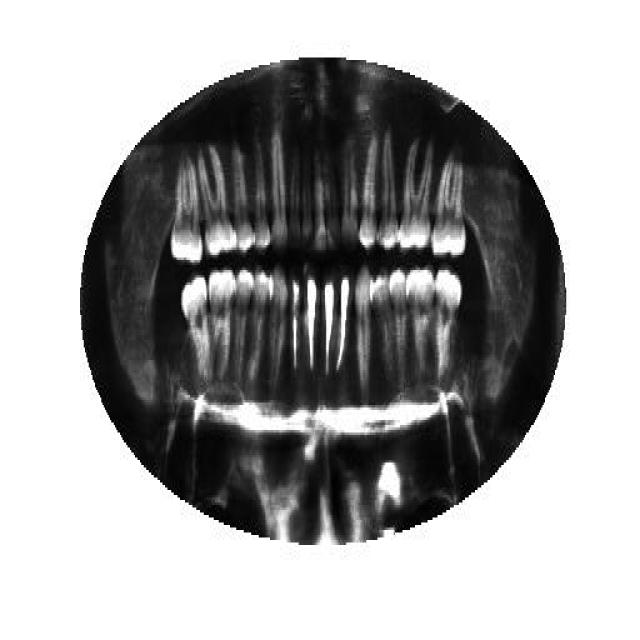Implant: (336, 265, 355, 383), (289, 265, 305, 377), (305, 275, 321, 373), (324, 270, 335, 378)
